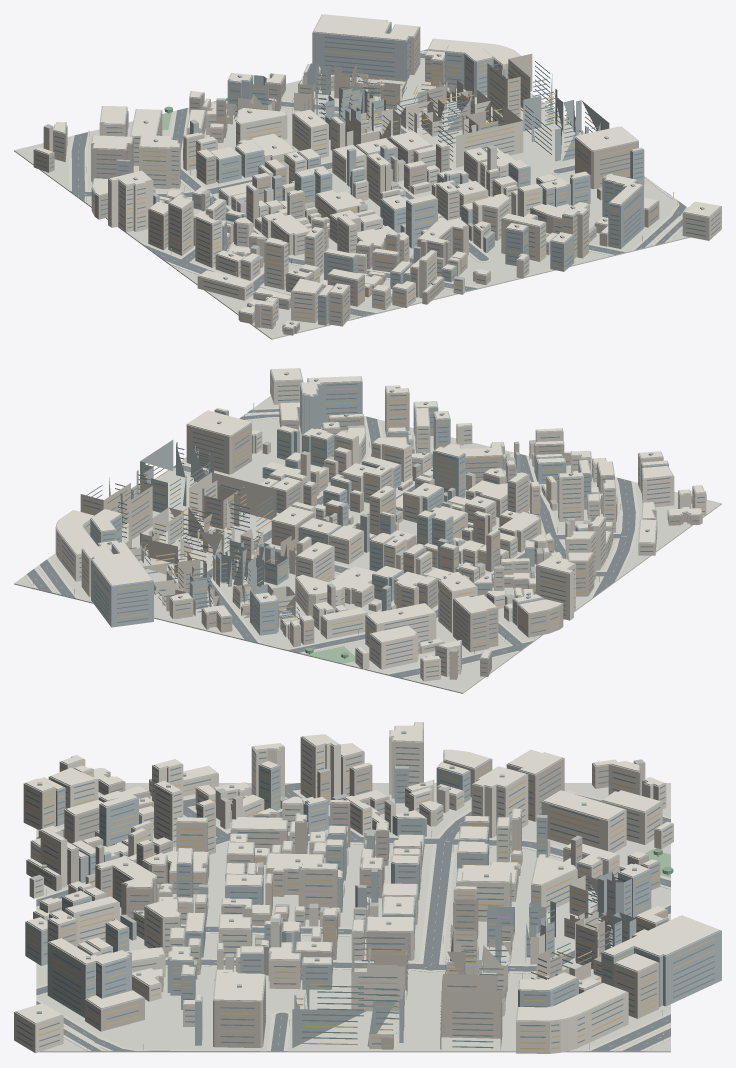
3 views of the same model, one above another, from view 1: azimuth 30°, elevation 25°; view 2: azimuth 150°, elevation 25°; view 3: azimuth 270°, elevation 25° (orthographic). The views are drawn at different scales.
Visible parts, largest first — view 1: city; view 2: city; view 3: city.
Boxes of the visible parts, x1,y1,x2,y2 form: city: (14, 14, 721, 339); city: (14, 368, 721, 693); city: (14, 722, 721, 1053).
Size of the model in its own units: 514 by 52.55 by 558.
